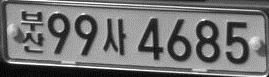4: (136, 17, 163, 60)
5: (225, 21, 249, 64)
6: (166, 18, 191, 62)
8: (194, 19, 221, 63)
9: (46, 11, 71, 55), (73, 13, 97, 56)
부산_V: (20, 10, 44, 54)
사: (101, 17, 126, 55)
